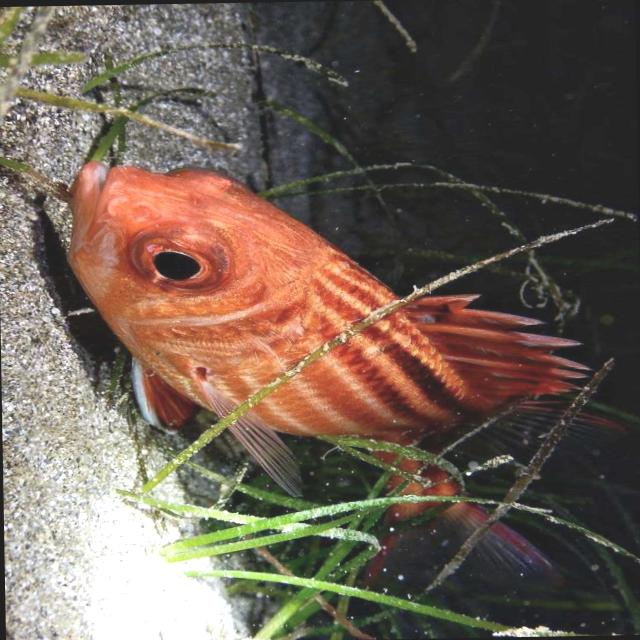Asker Baligi: (62, 147, 618, 588)
